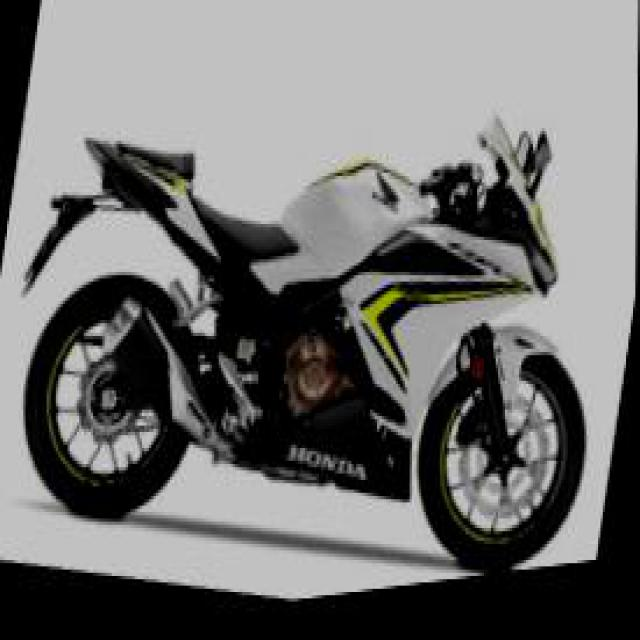CBR500R: (8, 5, 632, 635)
